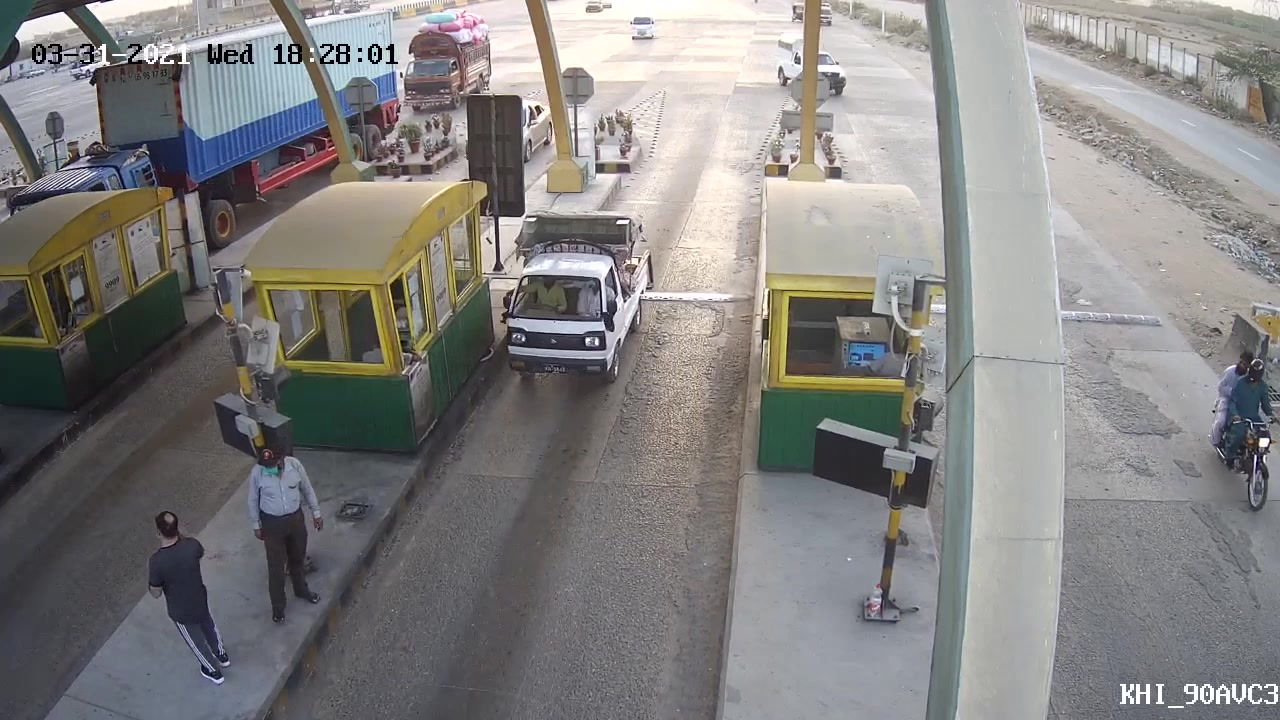F1: (496, 202, 658, 386)
